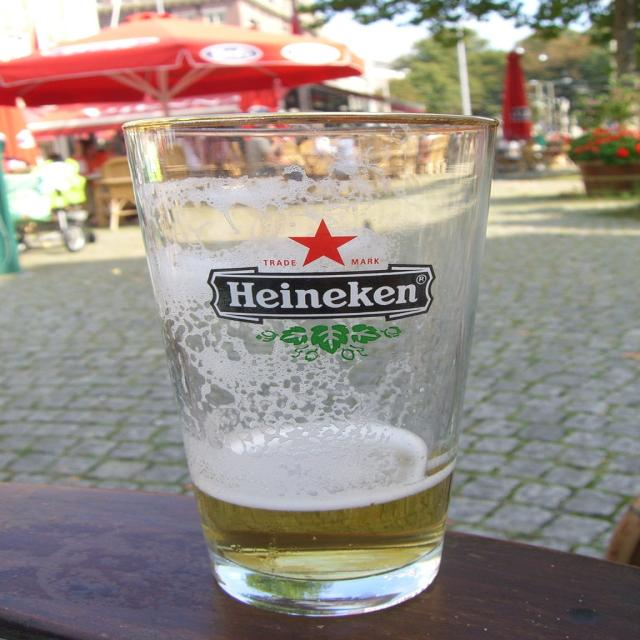heineken: (199, 214, 441, 330)
